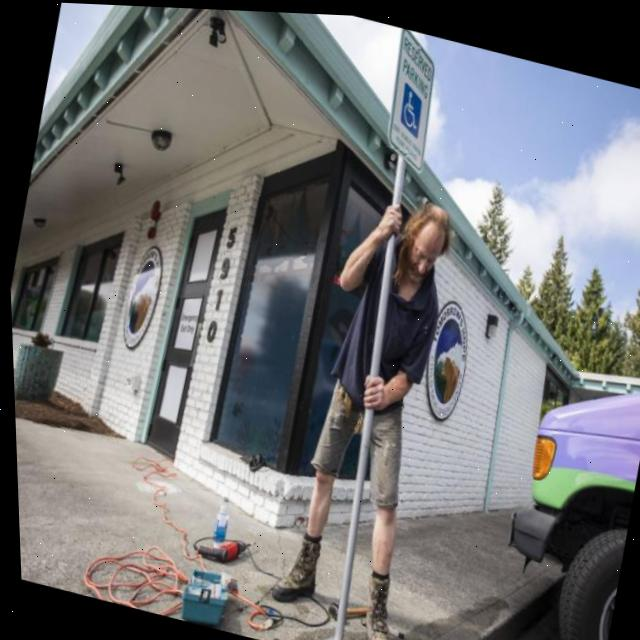symbol_of_access: (393, 80, 427, 135)
